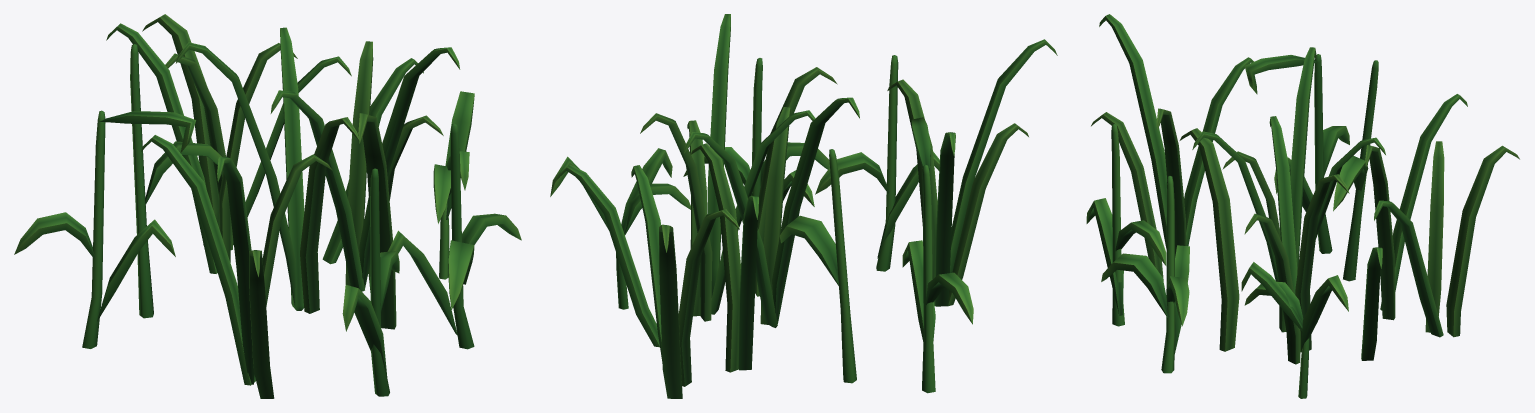
The model's file is SM_Plant_Rice_Lv1.fbx.
3 renders of one model, left to right at view 1: azimuth 30°, elevation 25°; view 2: azimuth 150°, elevation 25°; view 3: azimuth 270°, elevation 25°, orthographic. The views are drawn at different scales.
Parts seen in each view (by area): view 1: SM_Plant_Rice_Lv1; view 2: SM_Plant_Rice_Lv1; view 3: SM_Plant_Rice_Lv1.
Part boxes in pixels (x1,y1,x2,y2): SM_Plant_Rice_Lv1: (14,14,521,398); SM_Plant_Rice_Lv1: (550,14,1057,398); SM_Plant_Rice_Lv1: (1086,14,1519,398).
Bounding box in the file's own units: 56.98 × 34.75 × 55.38.
